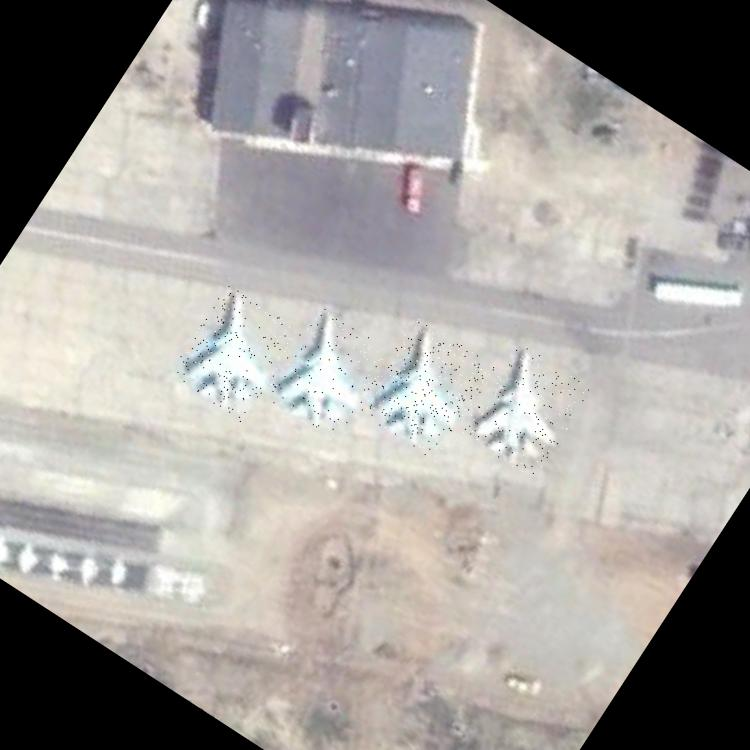A19: (354, 316, 495, 461), (168, 284, 302, 424), (460, 342, 592, 481), (261, 306, 392, 442)
